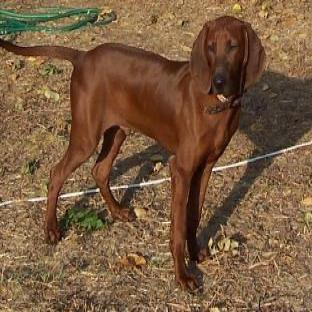Animal: (0, 16, 265, 289)
